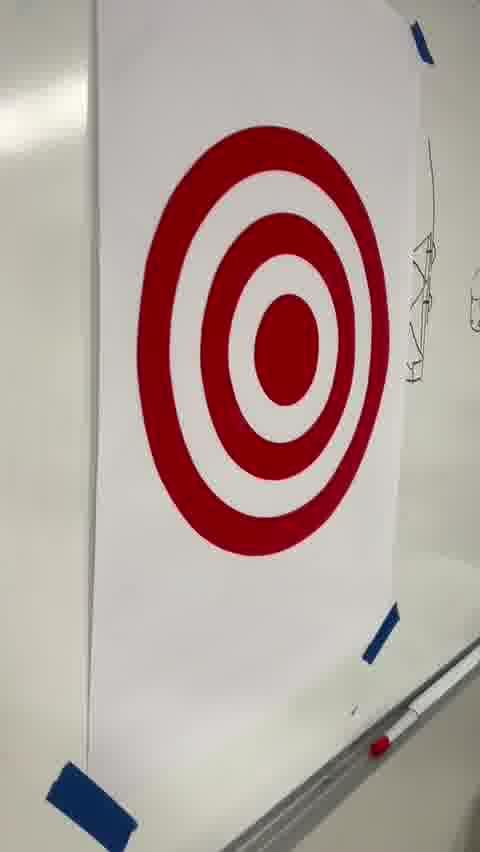target_red: (139, 124, 390, 555)
